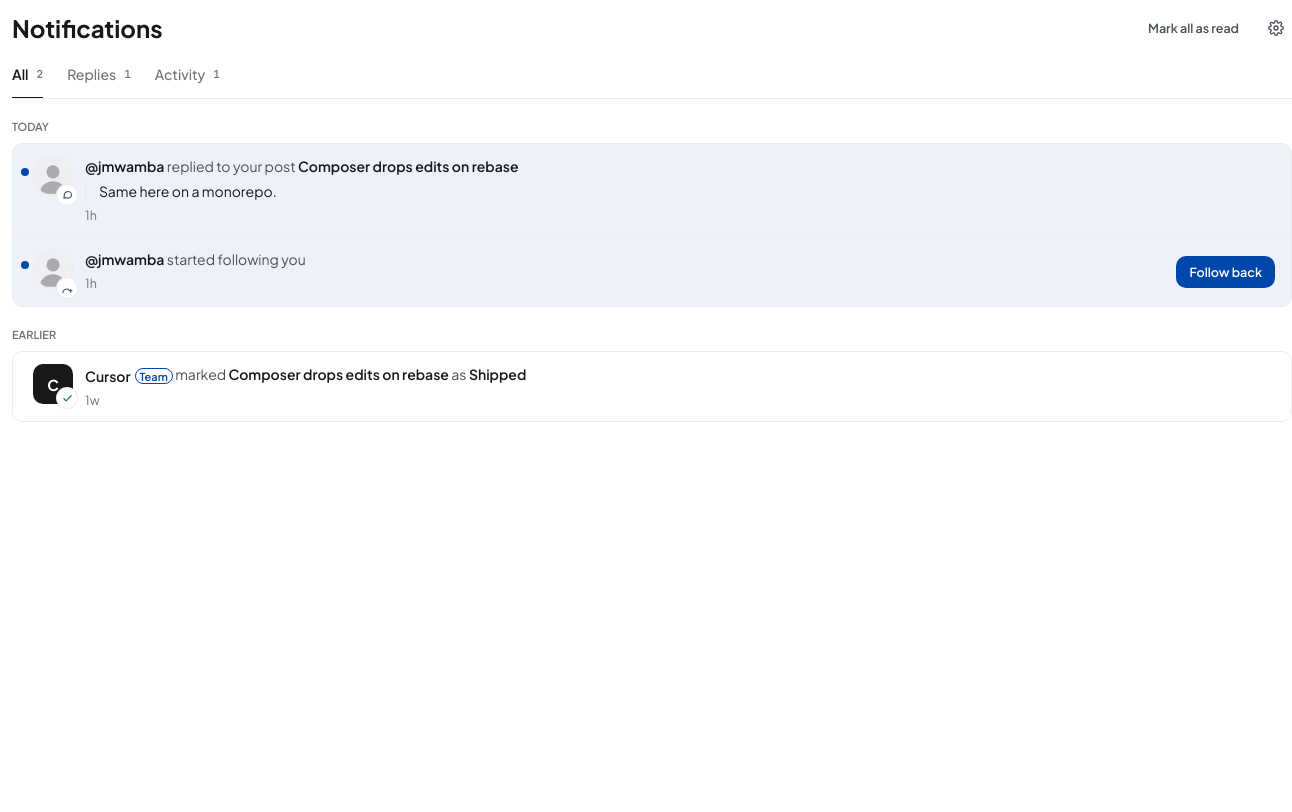
Test: notifications page › Mark all as read clears every unread one
This screenshot has width=1292, height=812.
Expected: the list named "Today" is shown, [12,143,1291,307]
Click the button "Mark all as read": (1194, 28) [1135,12,1252,44]
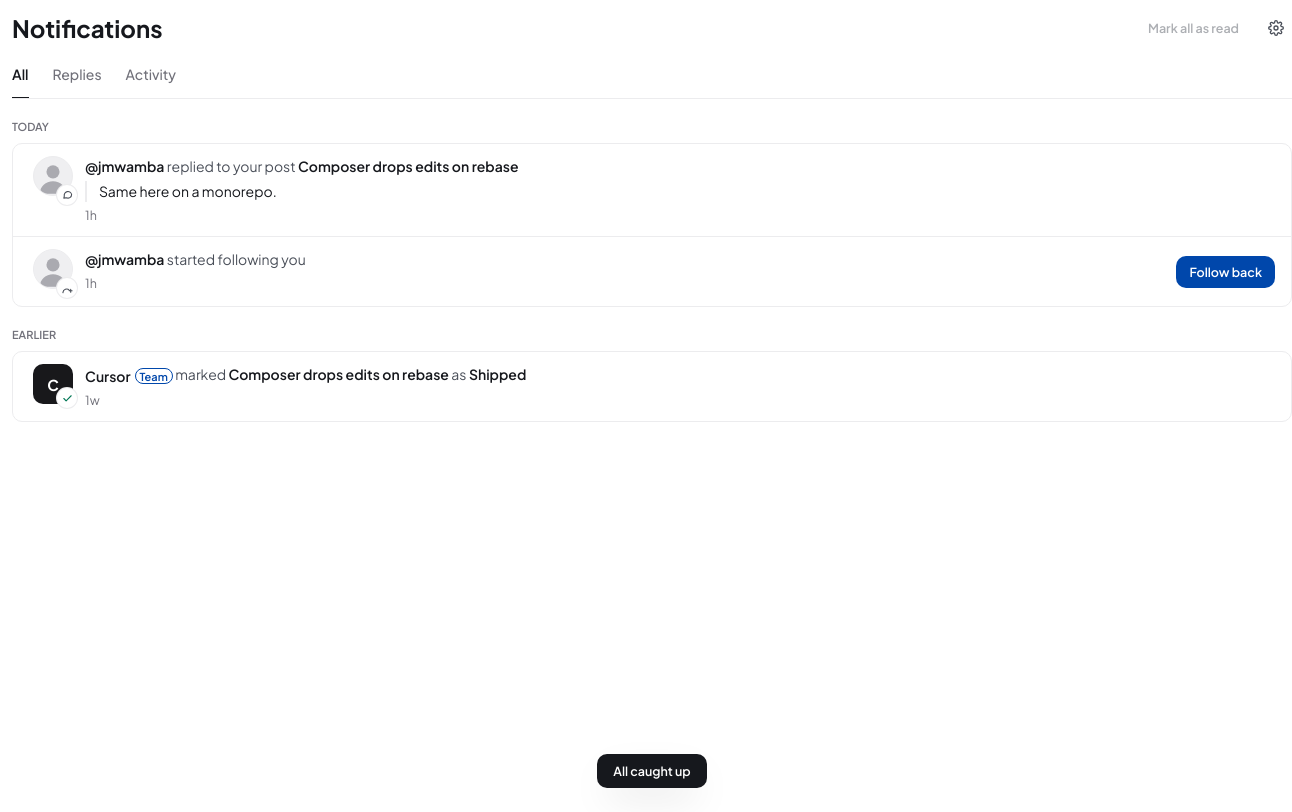
Expected: the text "All caught up" is shown, [613,762,691,780]
